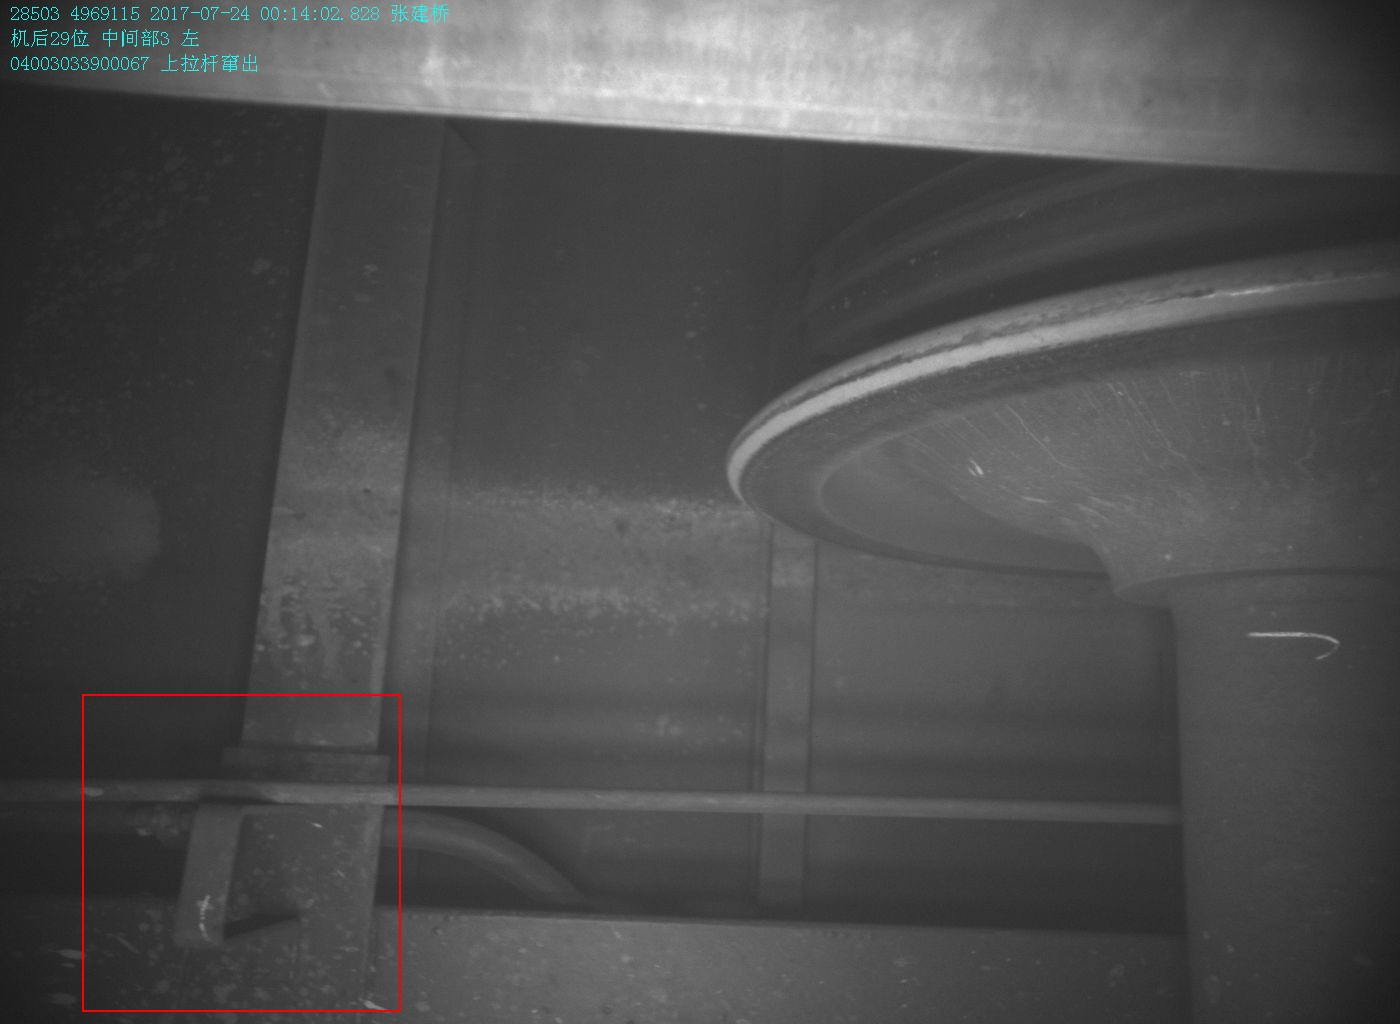Upper lever: (178, 771, 303, 952)
